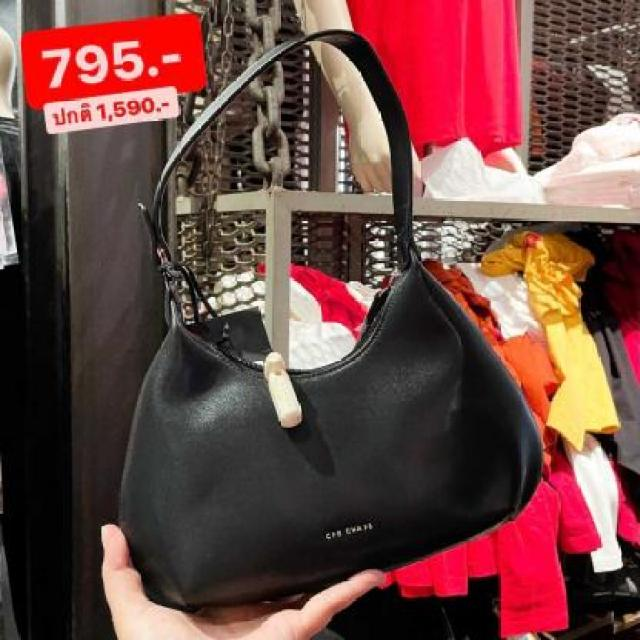Bag: (78, 16, 567, 630)
